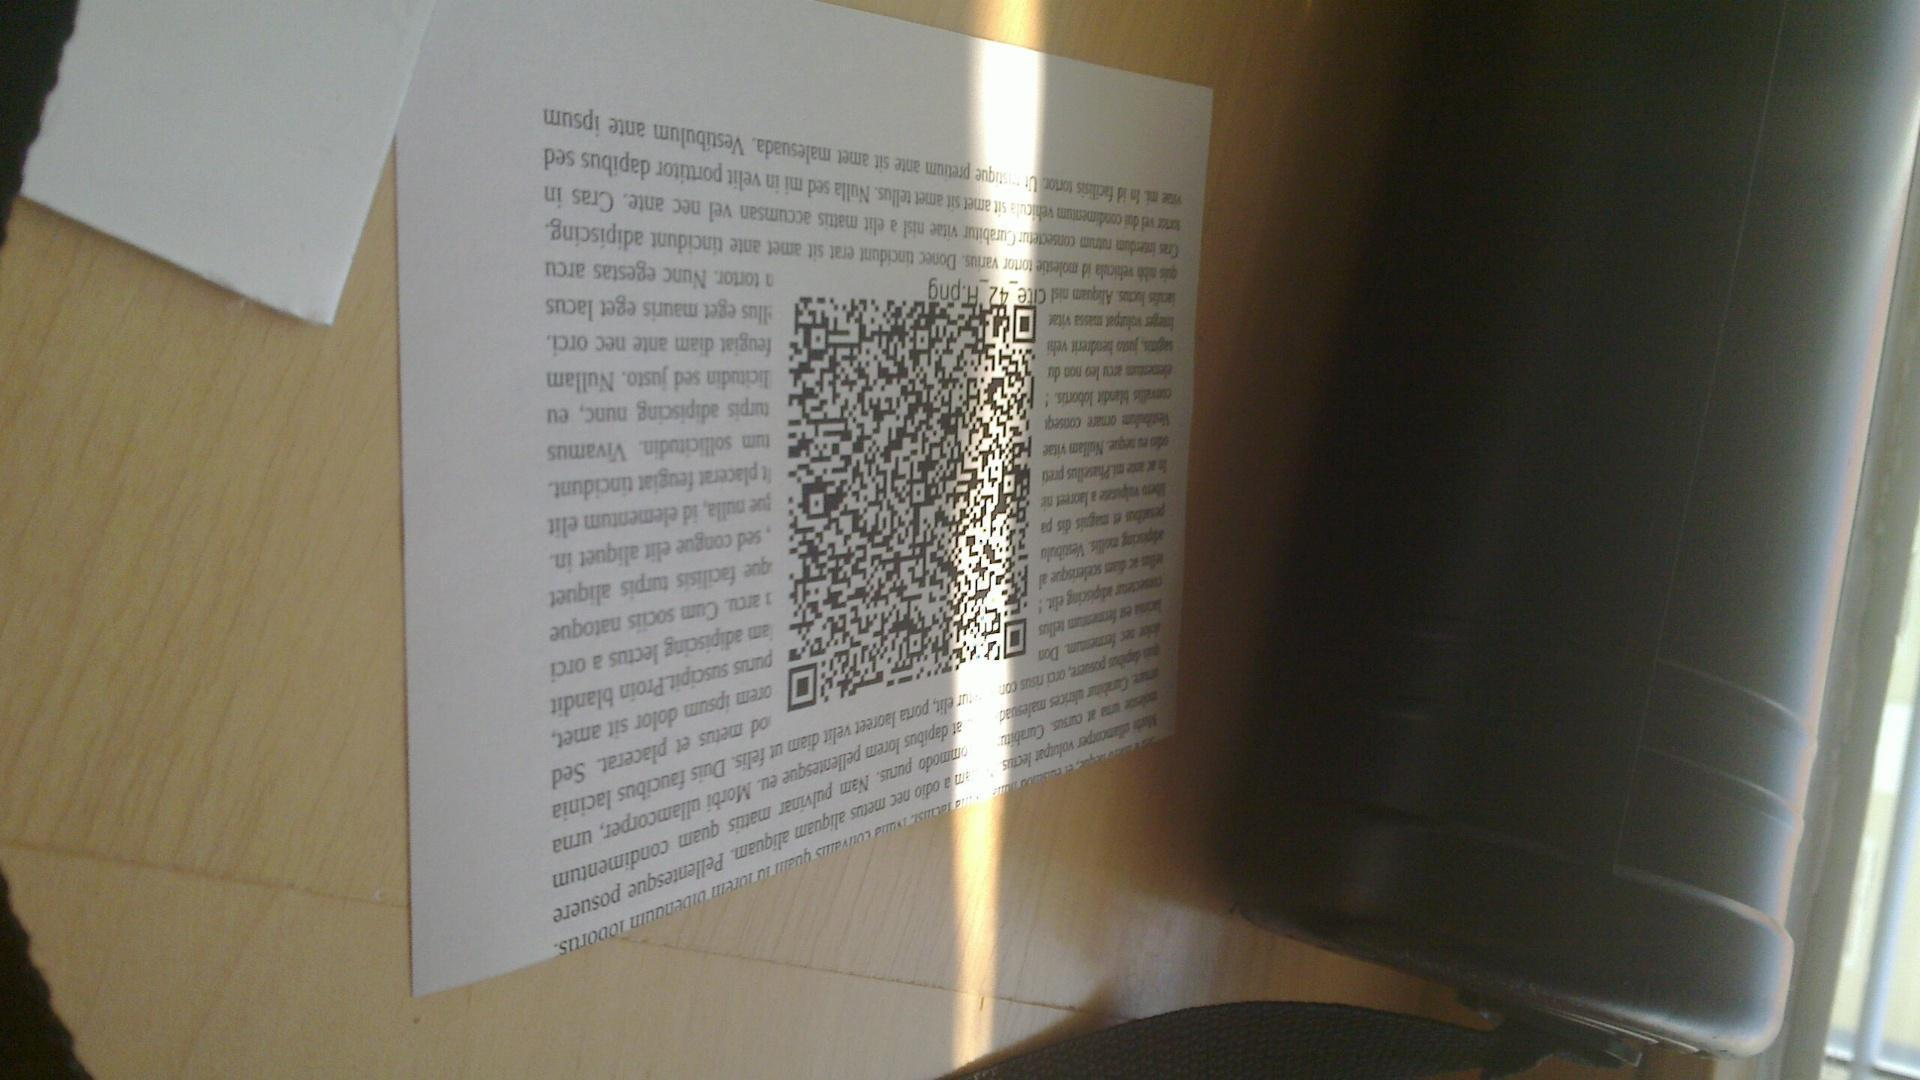qr_code: (789, 294, 1038, 712)
